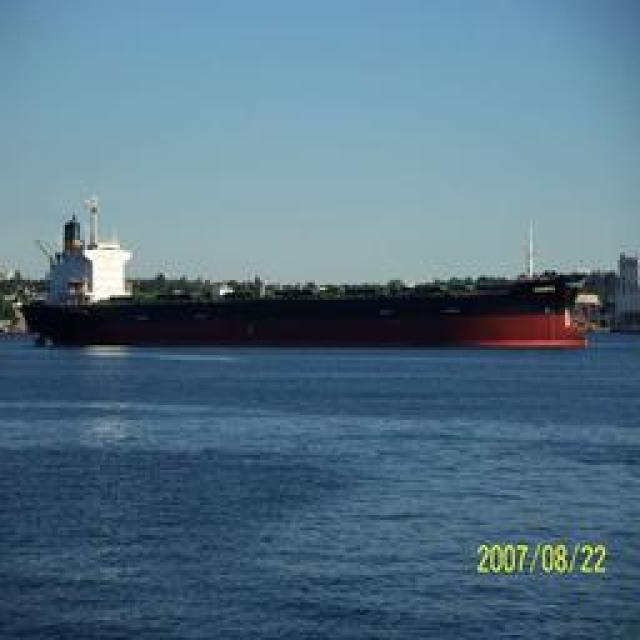ship2: (24, 195, 591, 351)
